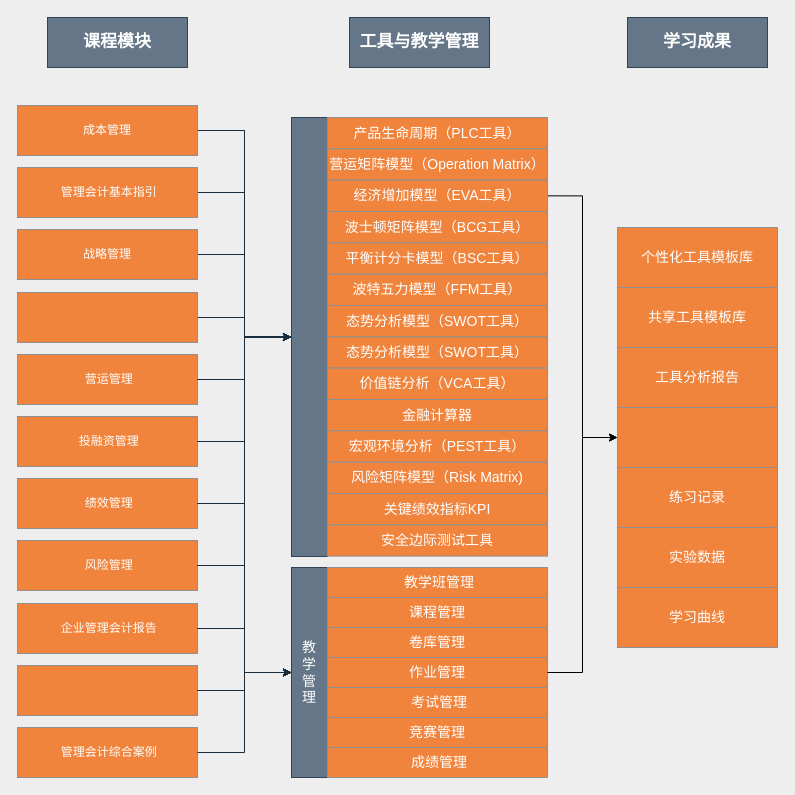
Image size: 795x795. Some labels were removed from this diagram. The shapes that lost their labels are listed below. From the top down, each one's centre as x and y in pixels, then its label:
At (x=107, y=317): "预算管理".
At (x=309, y=336): "工 具 库".
At (x=697, y=437): "学习记录".
At (x=107, y=690): "管理会计信息系统".
